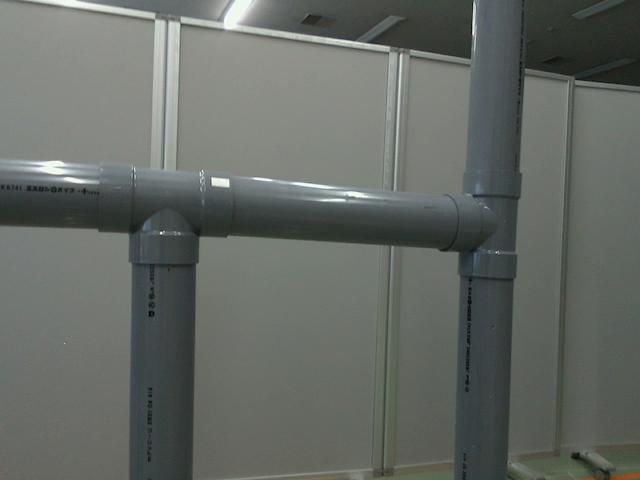junction: (91, 162, 234, 266), (442, 168, 524, 277)
